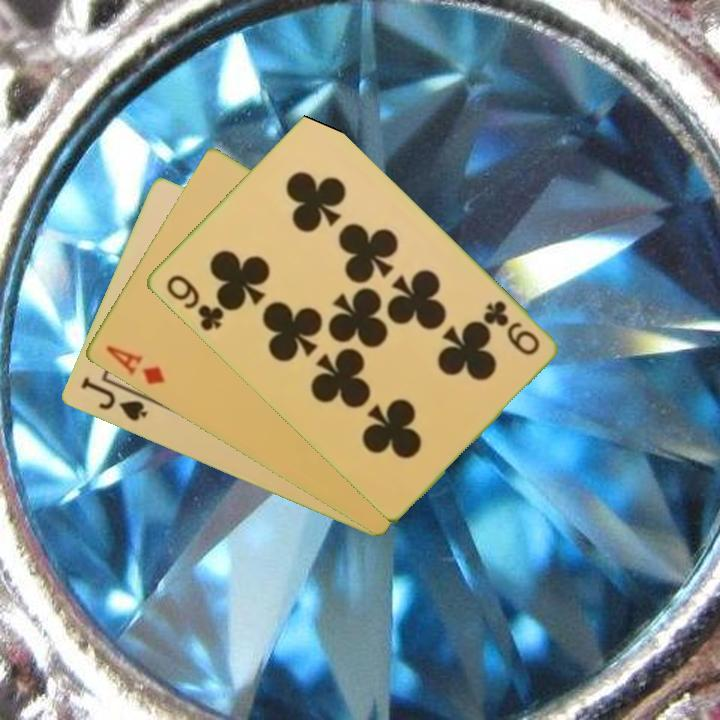9c: (162, 271, 227, 334), (479, 296, 543, 359)
Ad: (101, 341, 167, 388)
Js: (76, 374, 150, 425)
